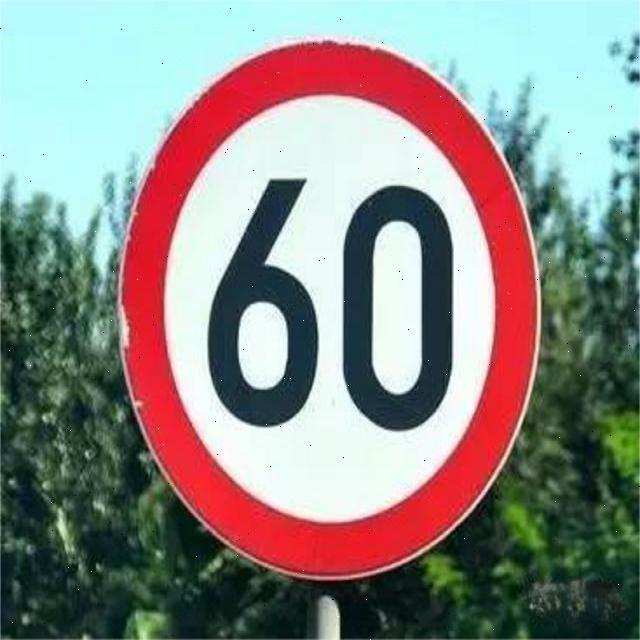speed limit 60: (117, 41, 543, 582)
